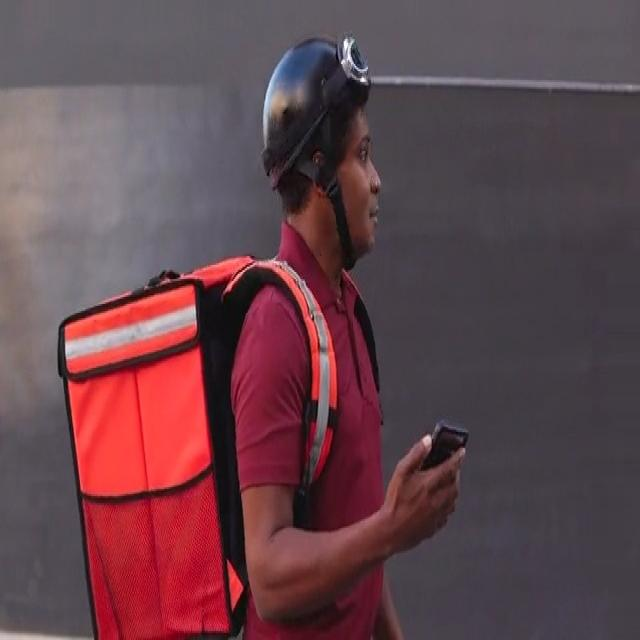Helmet_Wearer: (257, 29, 380, 244)
Person: (223, 26, 468, 640)
